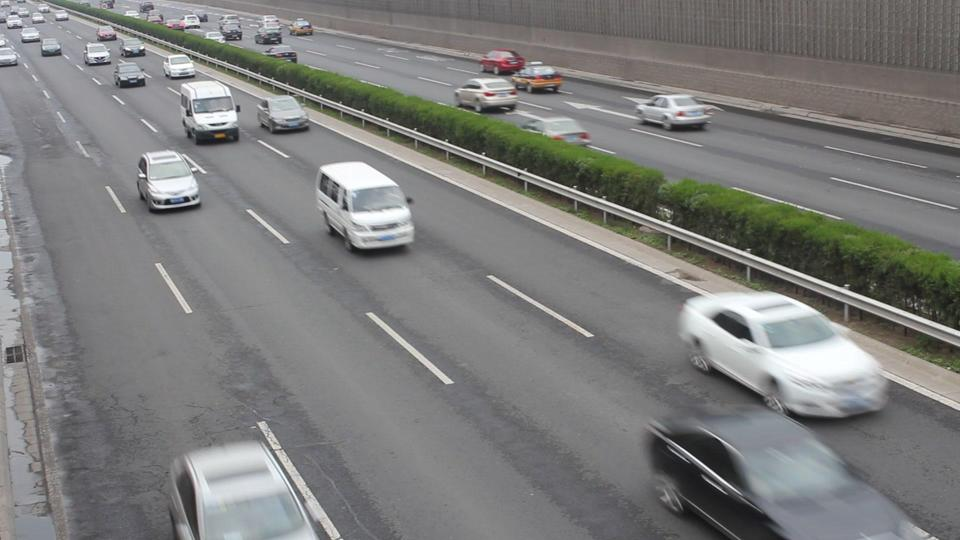Car: (651, 402, 903, 540), (681, 289, 887, 419), (171, 442, 310, 540), (137, 148, 200, 212), (634, 91, 706, 130), (519, 116, 590, 154), (452, 77, 518, 112), (256, 95, 308, 135), (511, 61, 560, 95), (475, 48, 523, 75)
Minivan: (315, 160, 414, 251), (179, 80, 239, 144)
